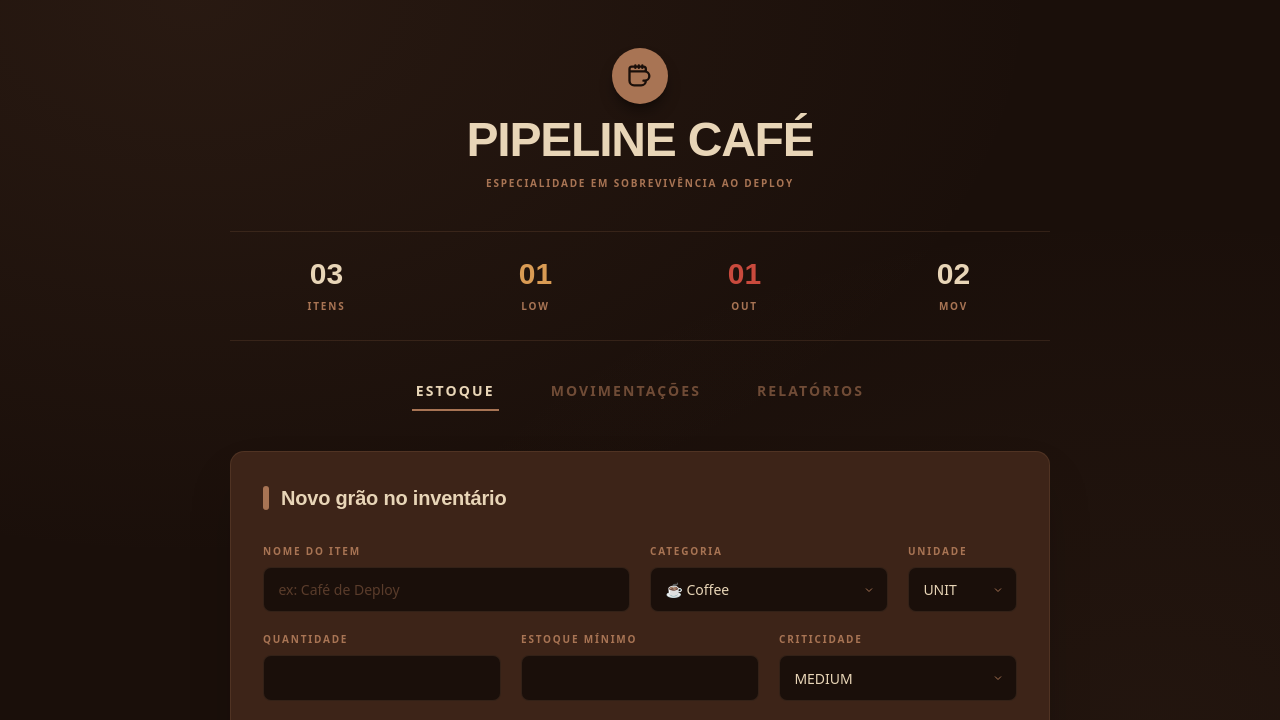
Test: PipelineCafePage › movimentações › lista histórico com entradas e saídas
The width and height of the screenshot is (1280, 720).
Click the button "Movimentações".
click(626, 396)  # box [547,381,705,411]
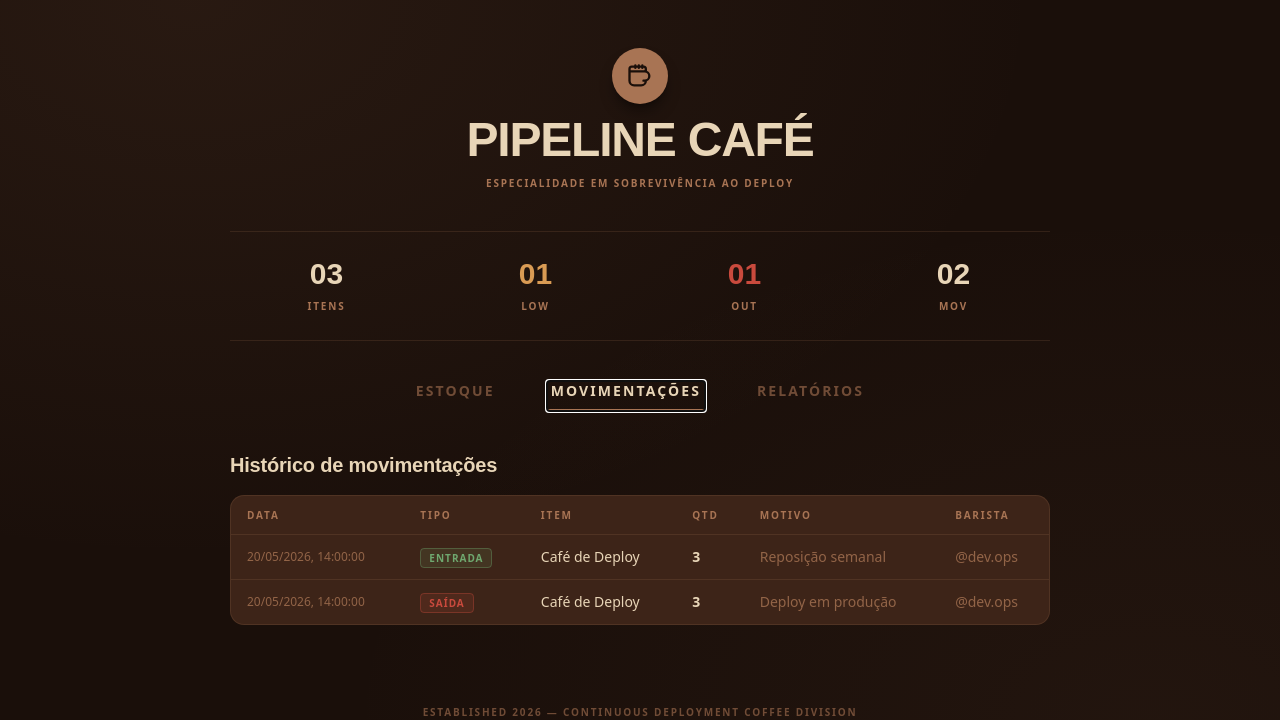
expect the heading "Histórico de movimentações" is shown: met, box [230,454,497,476]
expect the text "Entrada" is shown: met, box [420,548,492,568]
expect the text "Saída" is shown: met, box [420,593,474,613]
